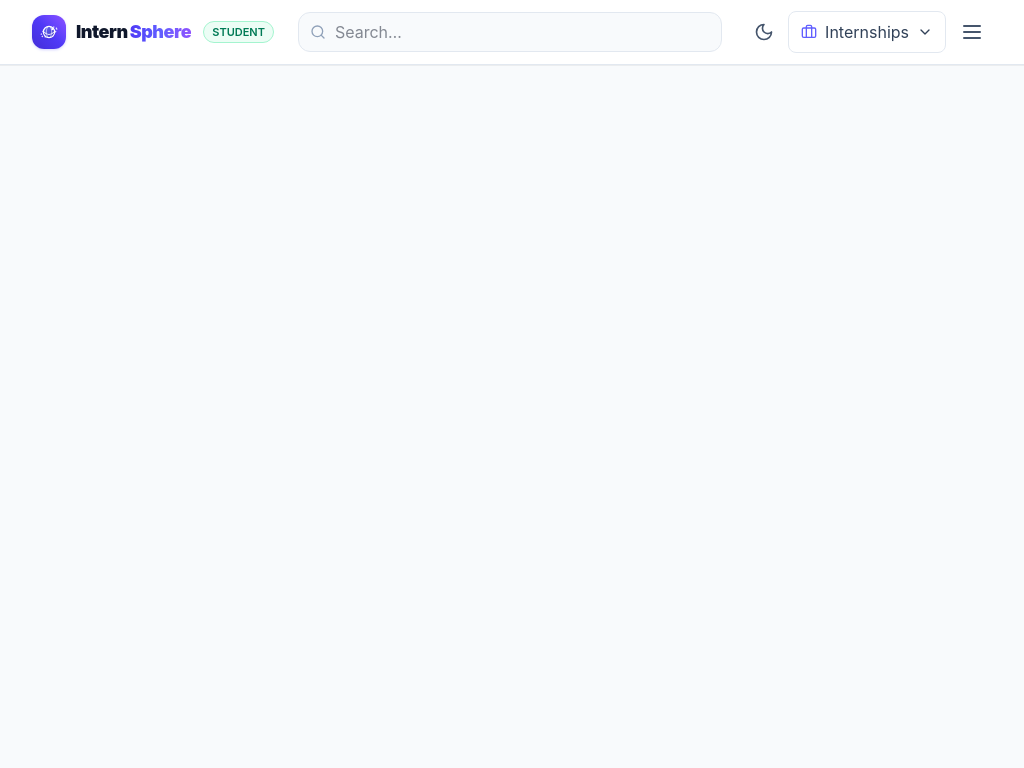
Test: Navbar menus › renders the student destinations once across the desktop menus
Click the button "Internships" at [867, 32], box [788,11,946,53]
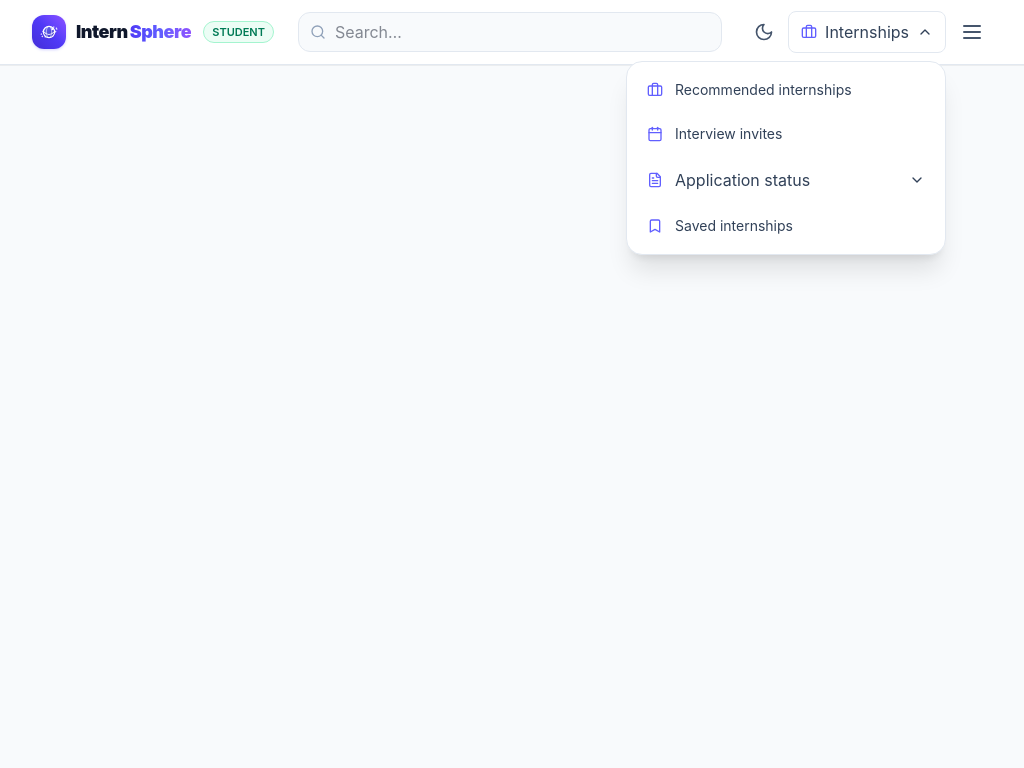
Click the menu item "Application status" at [786, 180], box [635,158,937,202]
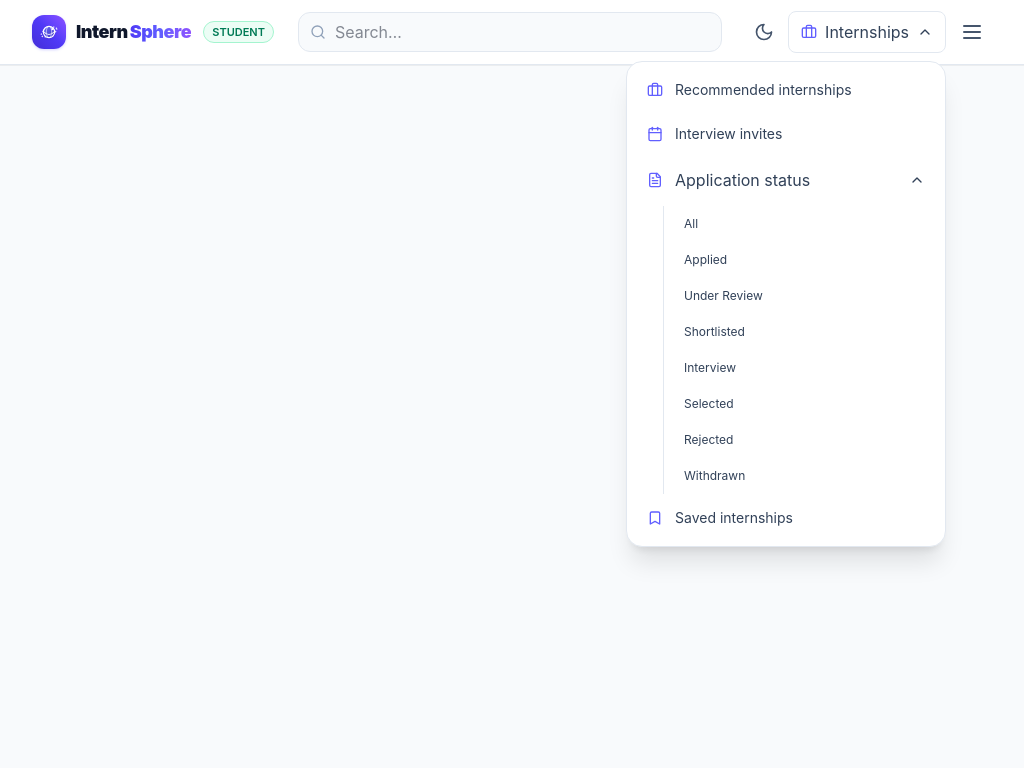
Click the button named "Open navigation menu" at [972, 32], box [952,12,992,52]
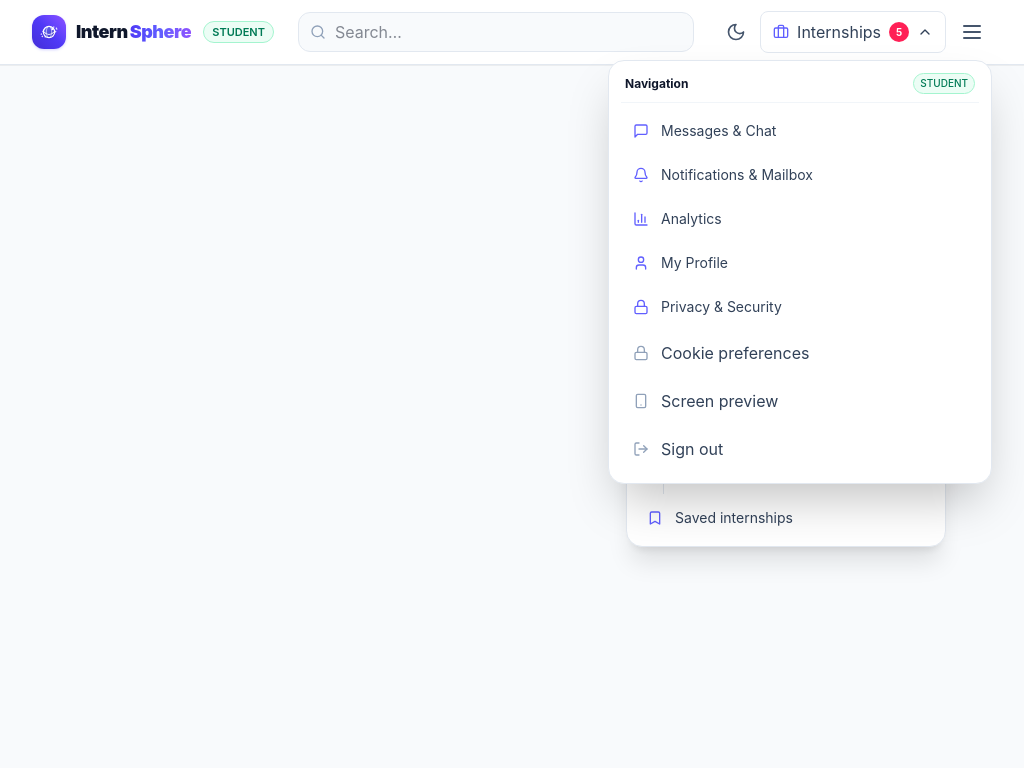
expect the text "5" is shown: met, box [889,22,909,42]
